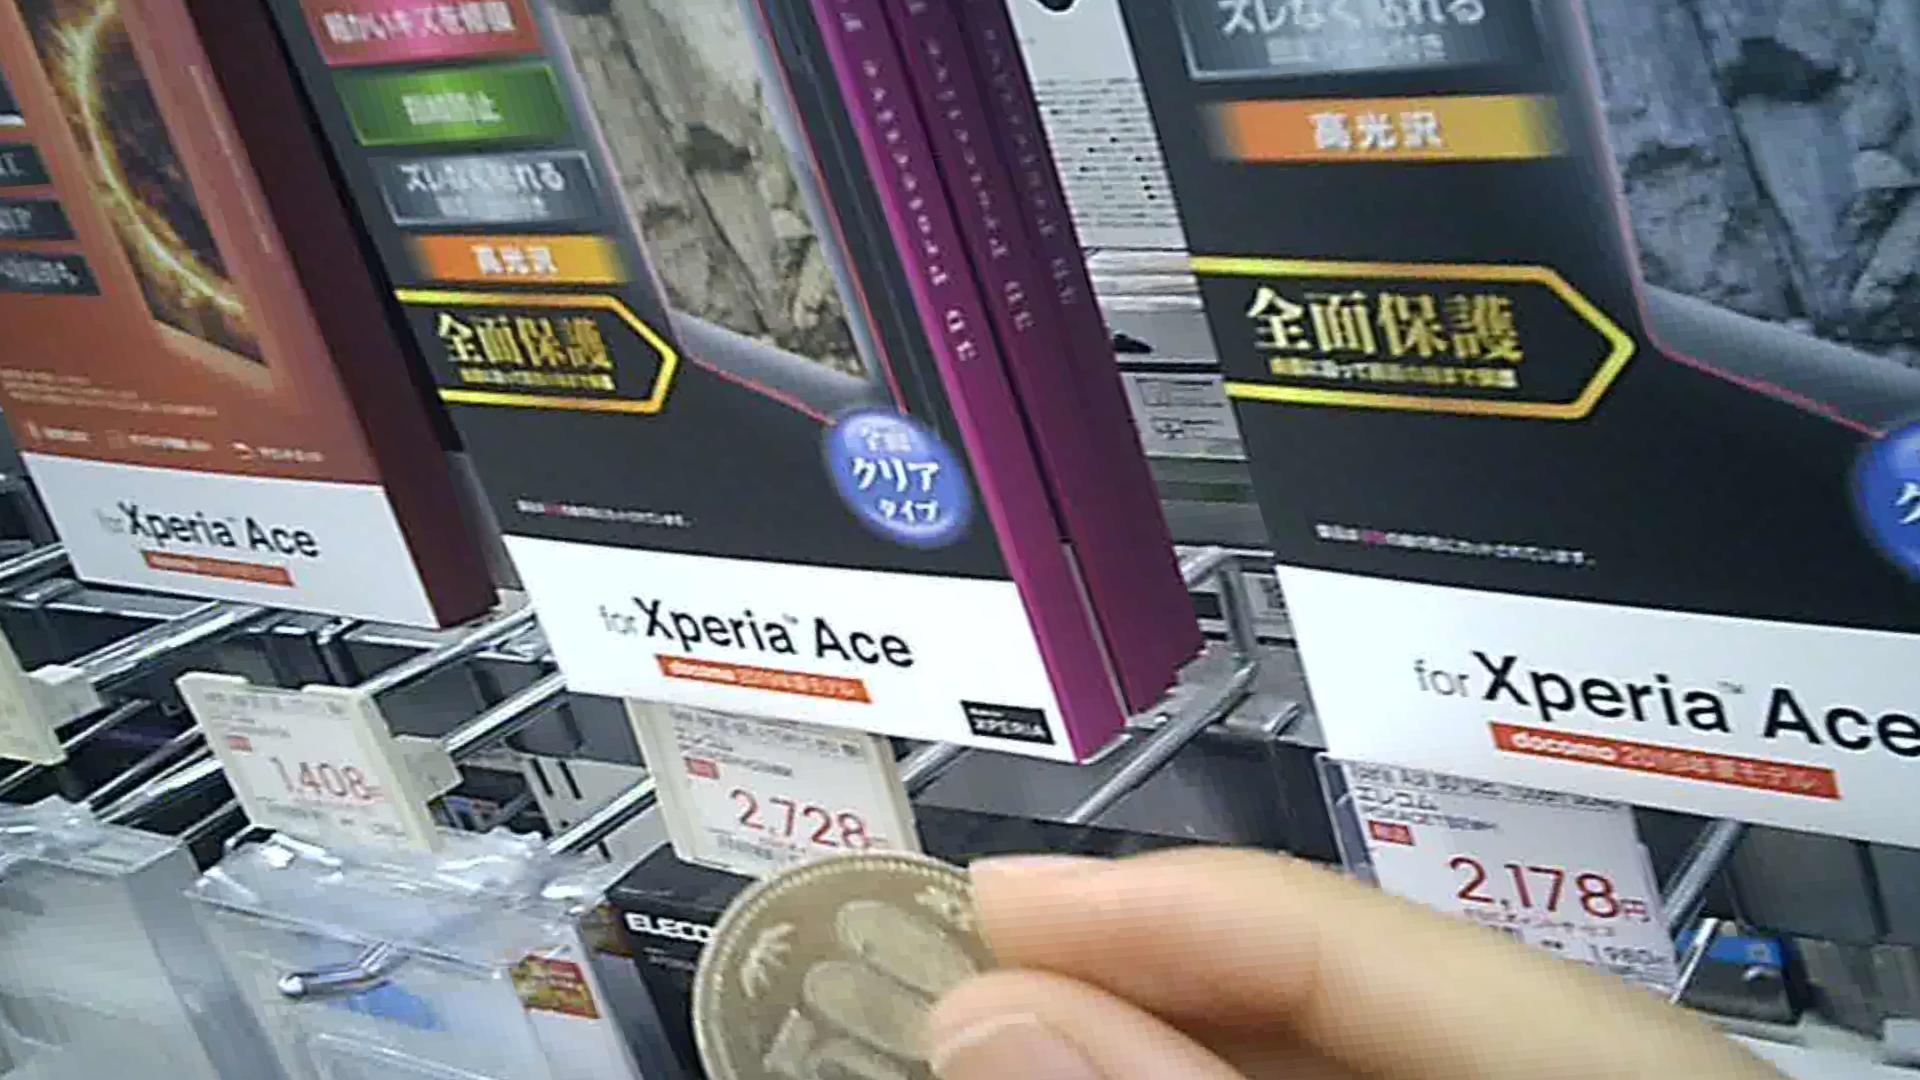500 Yen: (696, 852, 1054, 1076)
